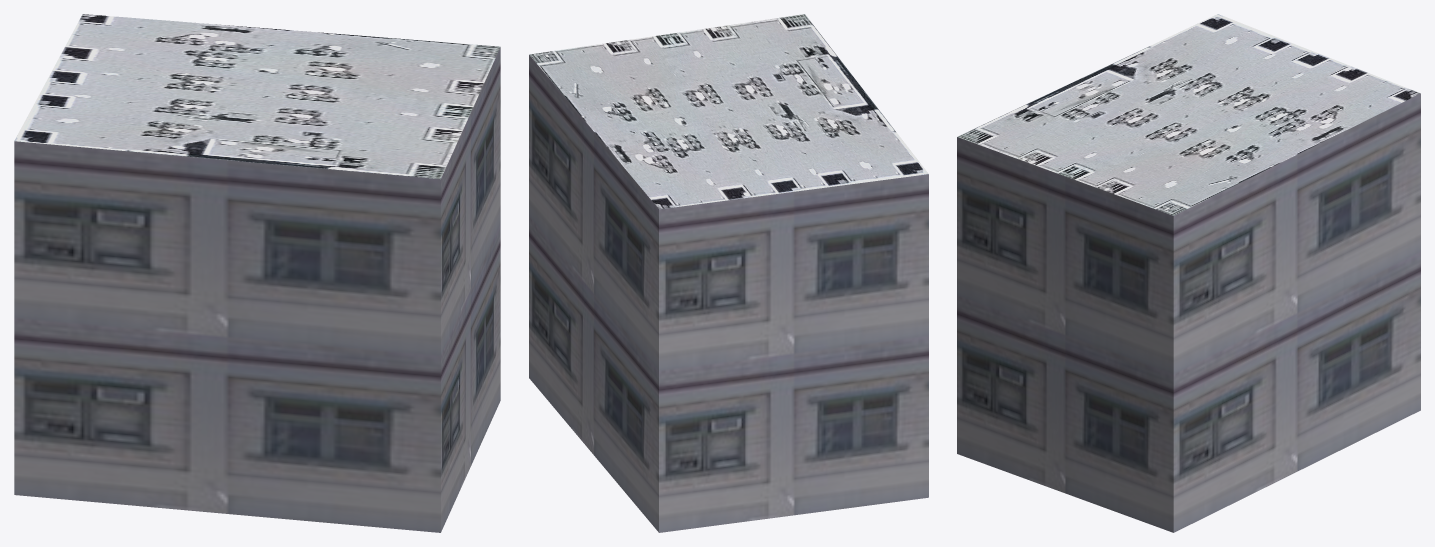
The model's file is ResTex__1766.fbx.
3 renders of one model, left to right at view 1: azimuth 30°, elevation 25°; view 2: azimuth 150°, elevation 25°; view 3: azimuth 270°, elevation 25°, orthographic. The views are drawn at different scales.
Visible parts, largest first — view 1: CityEngineMaterial_1_m, CityEngineMaterial_m; view 2: CityEngineMaterial_1_m, CityEngineMaterial_m; view 3: CityEngineMaterial_1_m, CityEngineMaterial_m.
Boxes of the visible parts, box(x1,y1,x2,y2) form: CityEngineMaterial_1_m: box(14, 47, 500, 532); CityEngineMaterial_m: box(14, 14, 500, 179); CityEngineMaterial_1_m: box(529, 55, 928, 532); CityEngineMaterial_m: box(529, 14, 928, 209); CityEngineMaterial_1_m: box(957, 93, 1420, 532); CityEngineMaterial_m: box(957, 14, 1420, 215).
Bounding box in the file's own units: 8.2 × 6 × 7.96.
2 materials, 2 textured.
